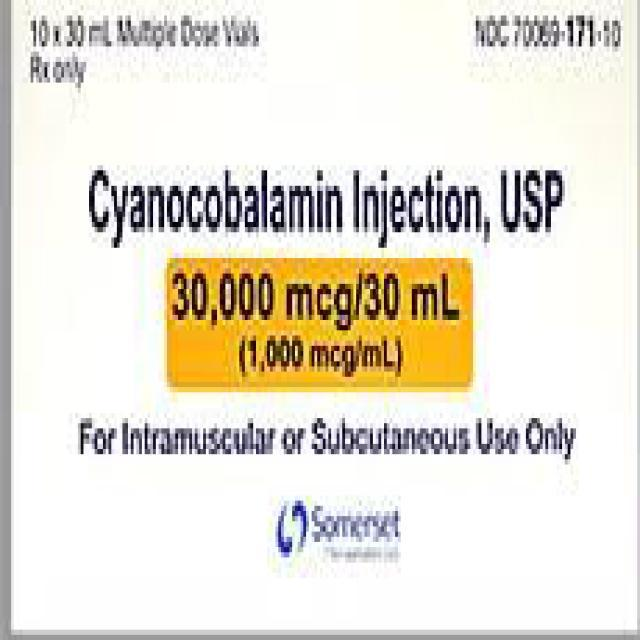drug-name: (84, 153, 346, 250)
